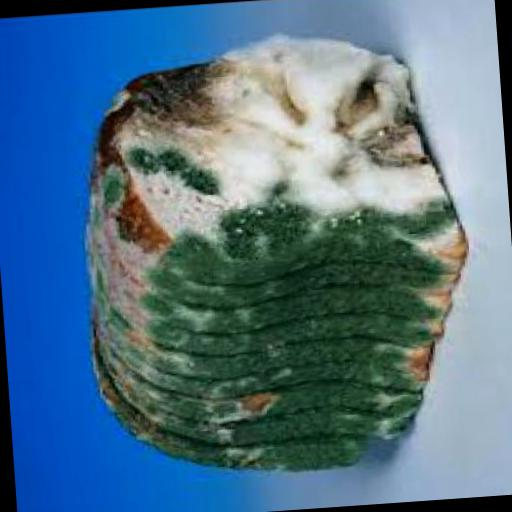biodegradable: (68, 18, 484, 484), (86, 21, 465, 296)
